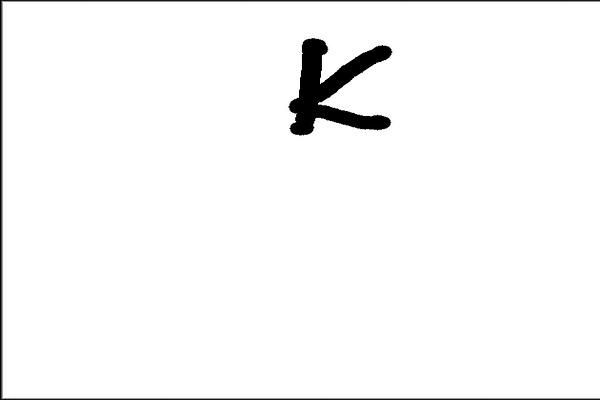K: (280, 31, 399, 139)
